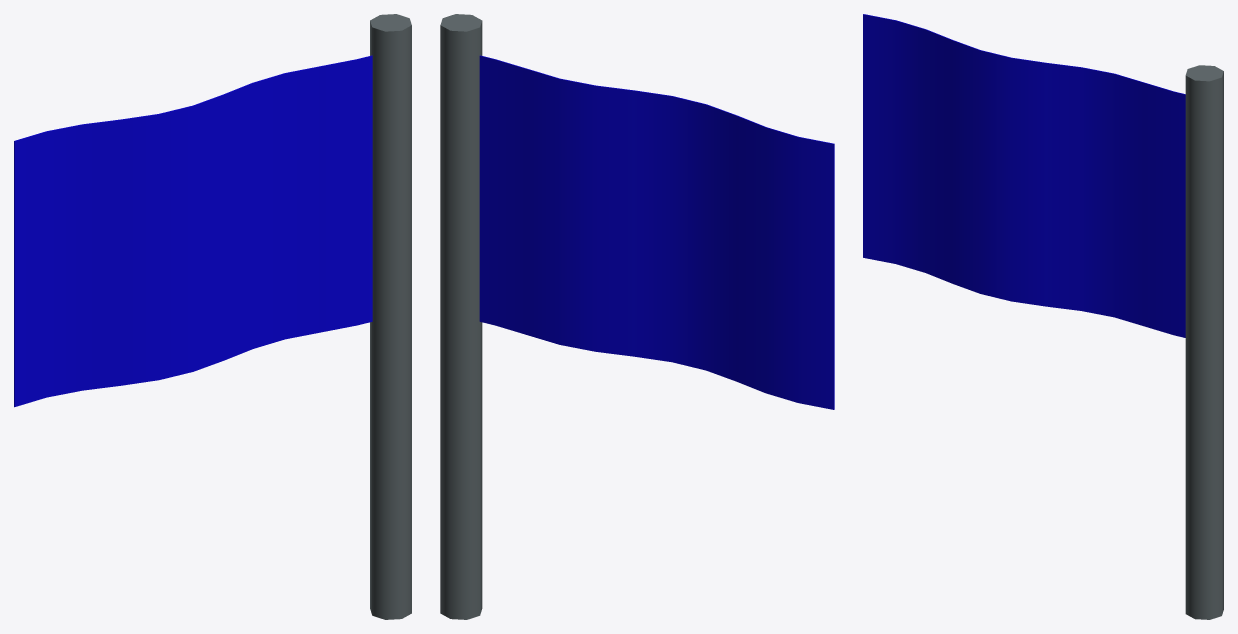
File: flag_basic.glb
The picture shows the model from 3 angles, left to right: view 1: azimuth 30°, elevation 25°; view 2: azimuth 150°, elevation 25°; view 3: azimuth 330°, elevation 25°; orthographic projection. The views are drawn at different scales.
Visible parts, largest first — view 1: primary, 0.067; view 2: primary, 0.067; view 3: primary, 0.067.
Part boxes in pixels (x1,y1,x2,y2): primary: (14,55,372,407); 0.067: (370,14,411,619); primary: (479,55,834,409); 0.067: (440,14,482,619); primary: (863,14,1185,337); 0.067: (1185,65,1223,619).
Size of the model in its own units: 0.42 by 0.6 by 0.04.
